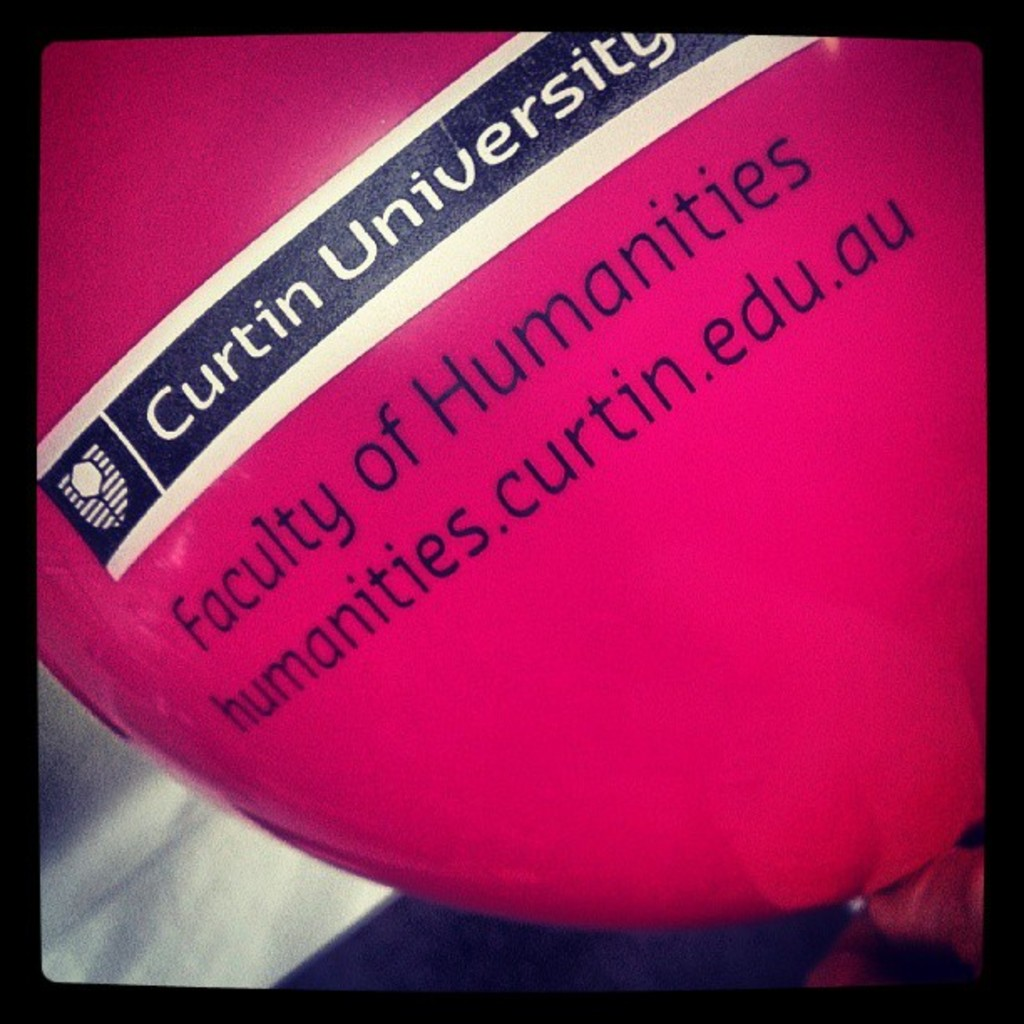Ball: (42, 30, 989, 929)
